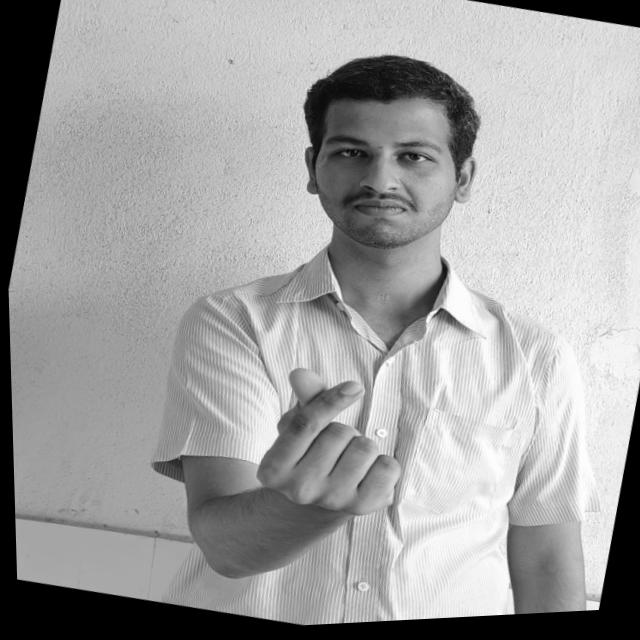Grattitude: (242, 359, 423, 534)
